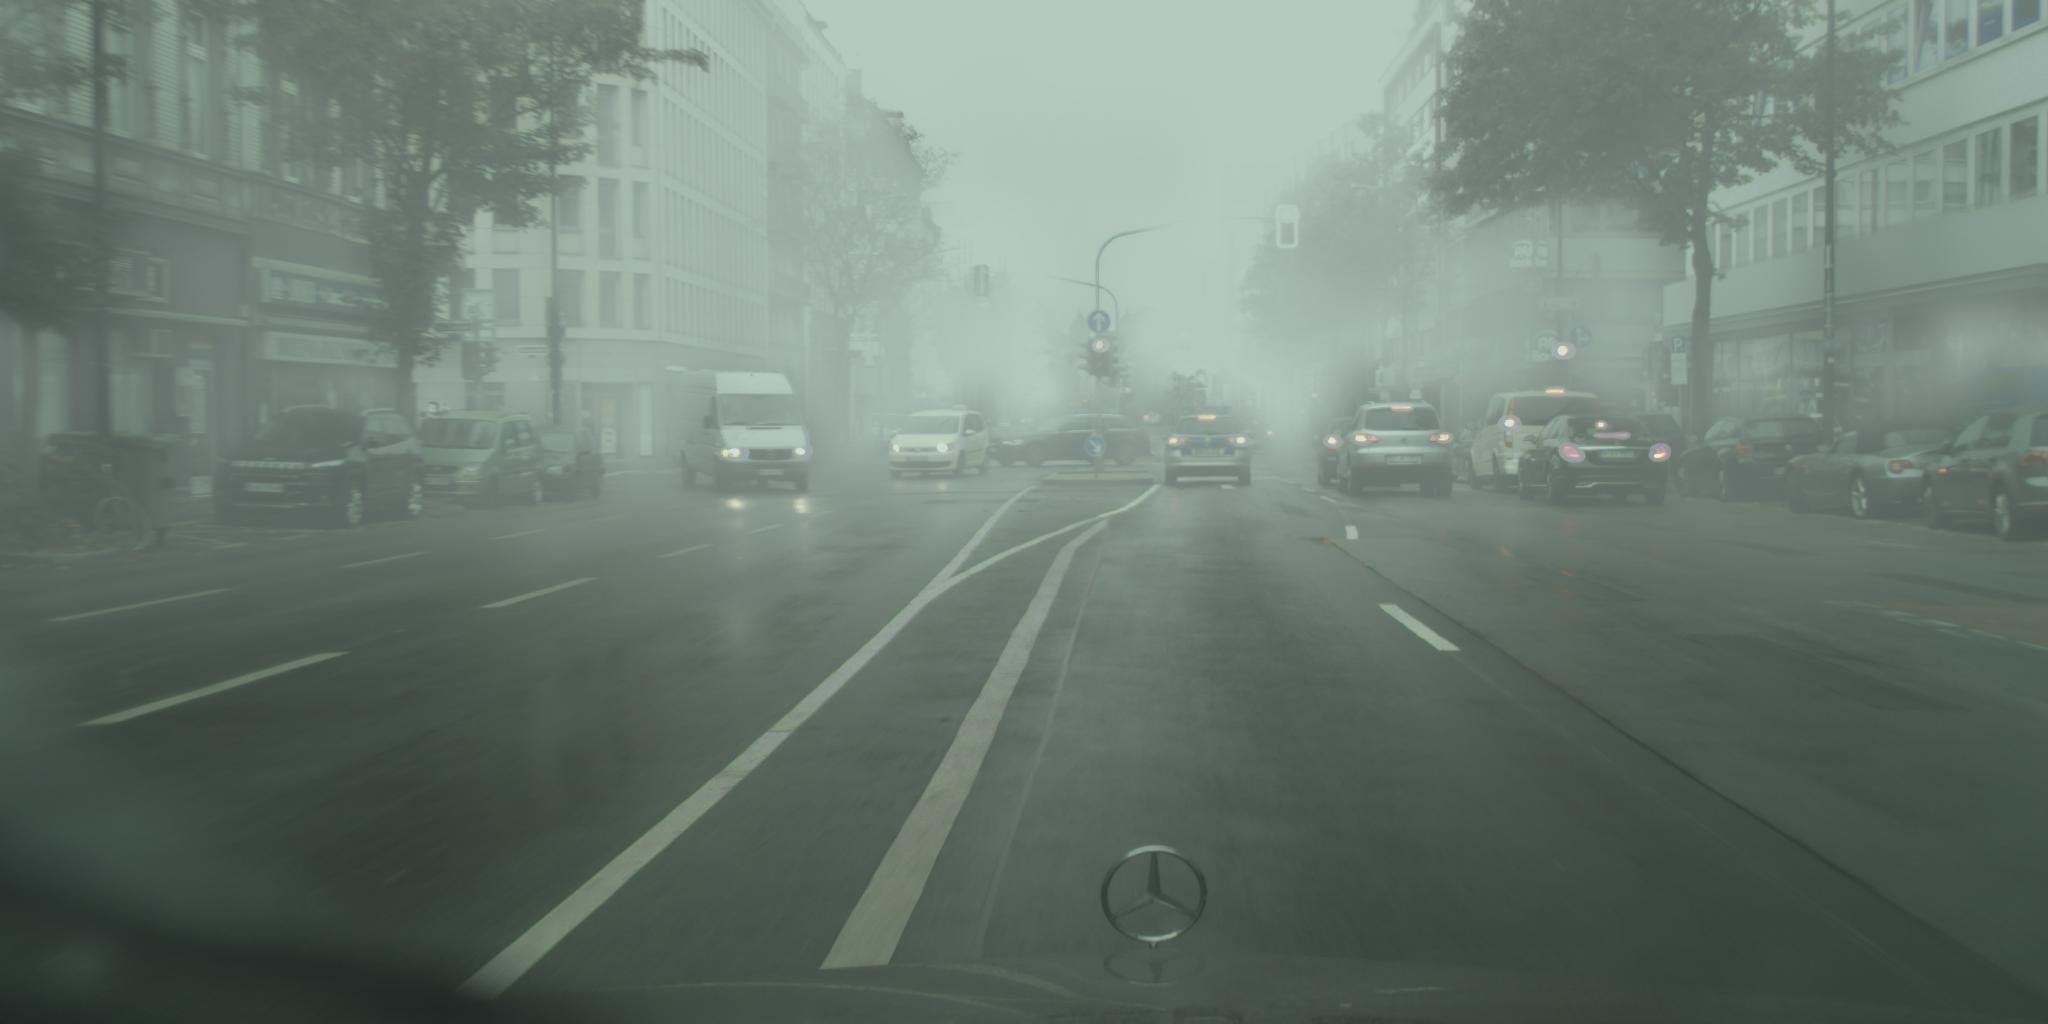bicycle: (24, 444, 157, 556)
car: (212, 404, 428, 529), (1784, 418, 1974, 520), (667, 368, 812, 496), (1919, 404, 2048, 545), (1674, 411, 1836, 505), (1516, 411, 1669, 507), (405, 409, 545, 512), (1465, 389, 1604, 492), (1331, 400, 1456, 499), (986, 413, 1155, 468), (888, 406, 994, 481), (1160, 414, 1256, 490), (529, 424, 606, 503), (1604, 410, 1690, 478), (1313, 415, 1378, 488), (1447, 413, 1492, 485), (866, 413, 922, 451), (1200, 415, 1255, 453), (1243, 419, 1277, 456), (1139, 411, 1164, 427)
